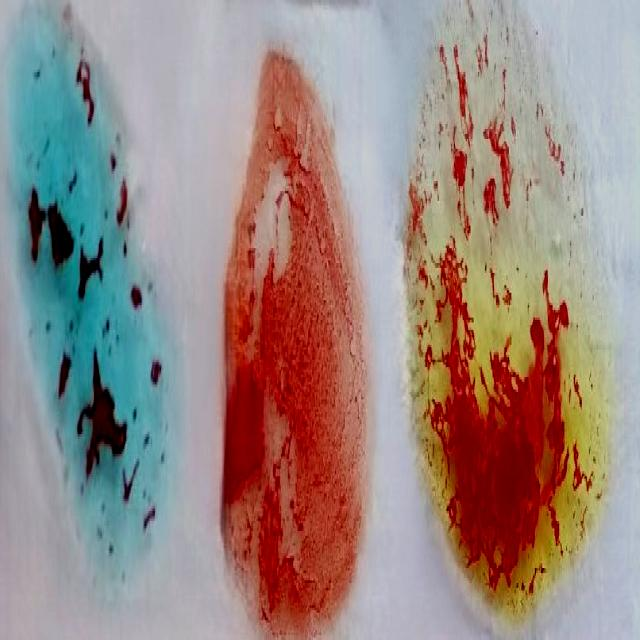A: (28, 17, 155, 611)
B: (405, 25, 594, 618)
D: (223, 52, 359, 640)
